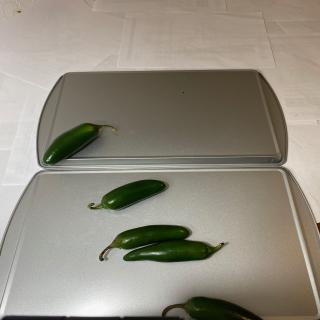Chilli: (42, 122, 116, 166)
Tomato: (98, 224, 192, 262), (88, 179, 166, 211), (162, 296, 264, 320), (123, 240, 225, 262)
